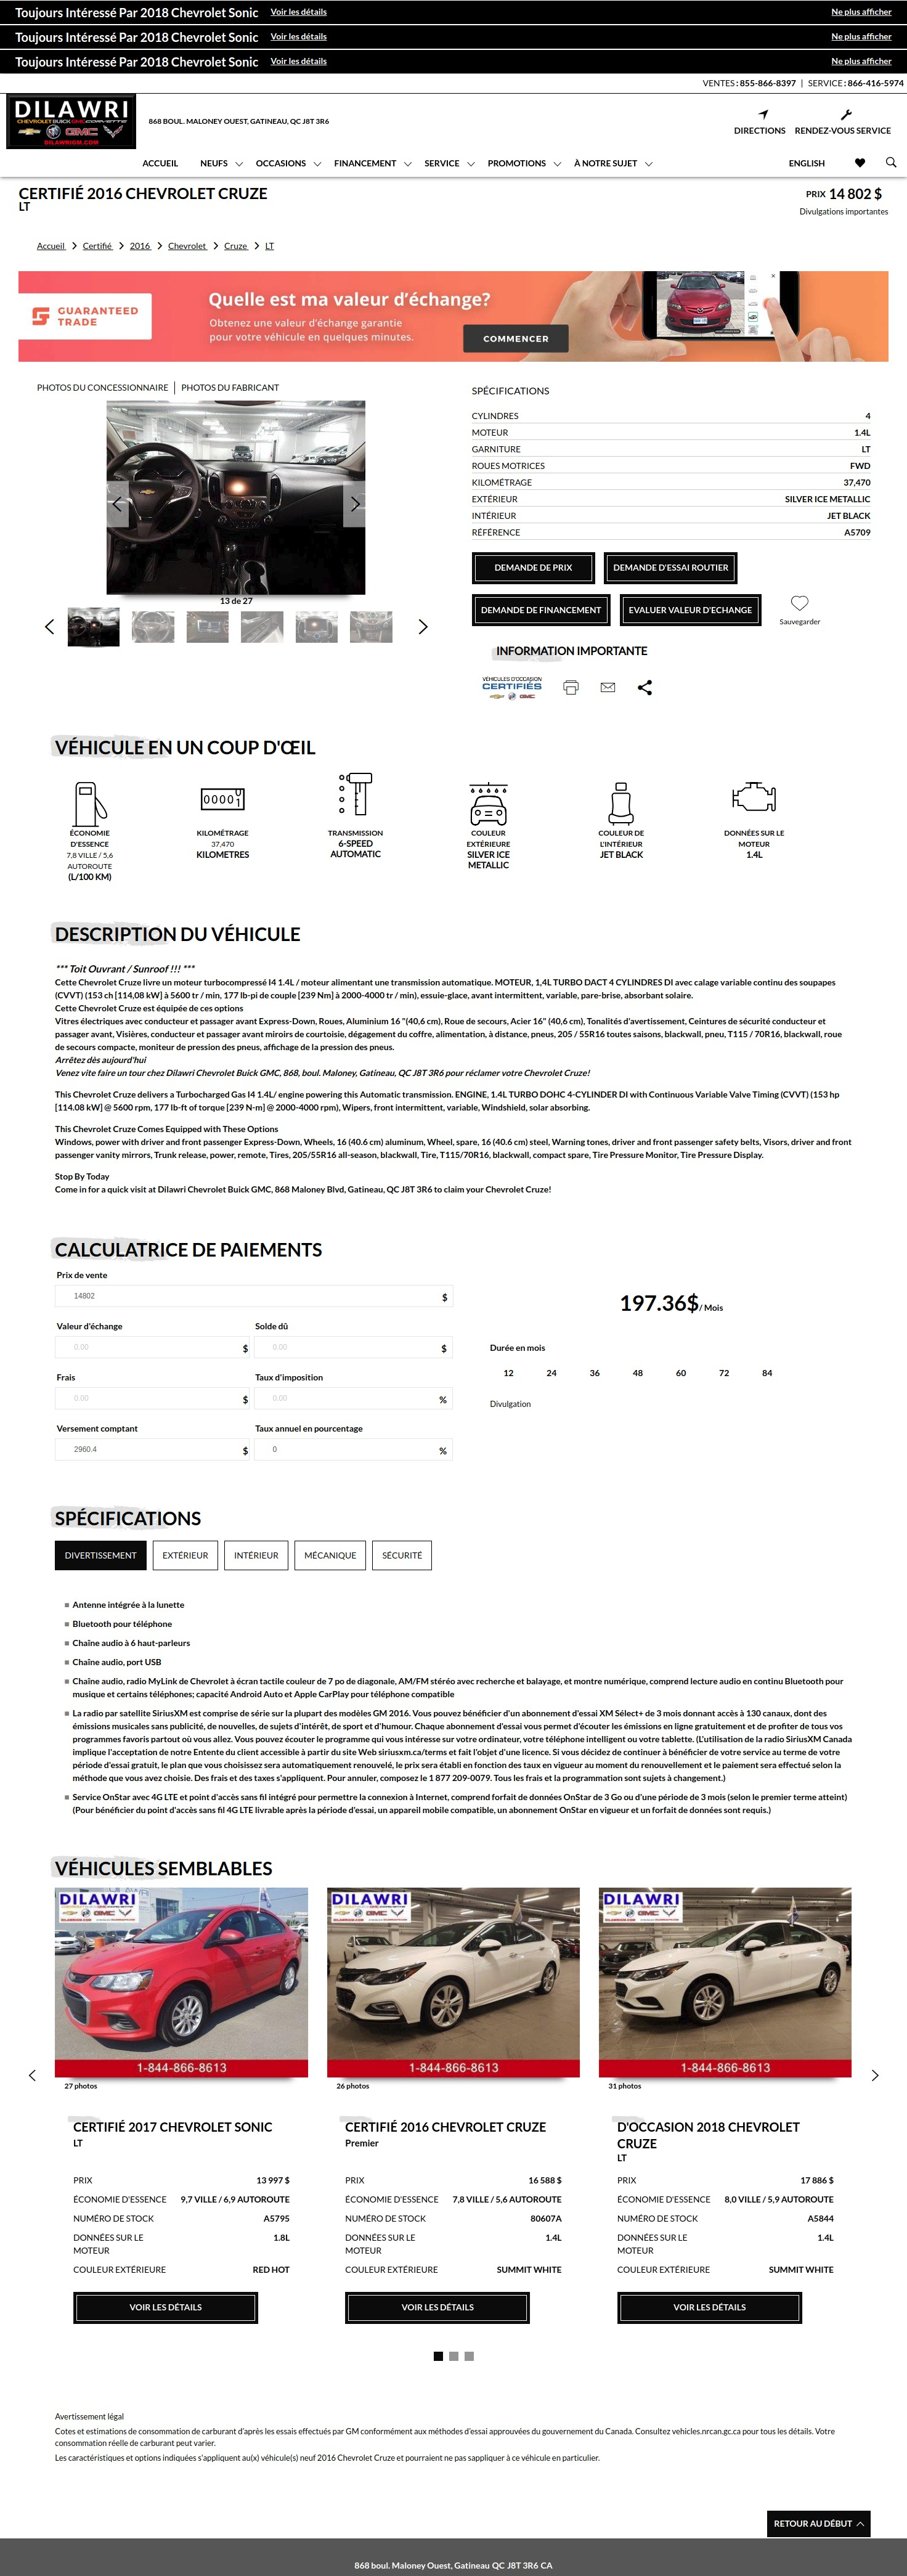car: (419, 619, 429, 636)
